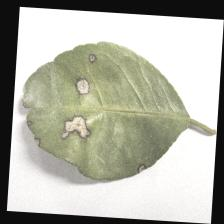canker: (58, 50, 150, 176)
